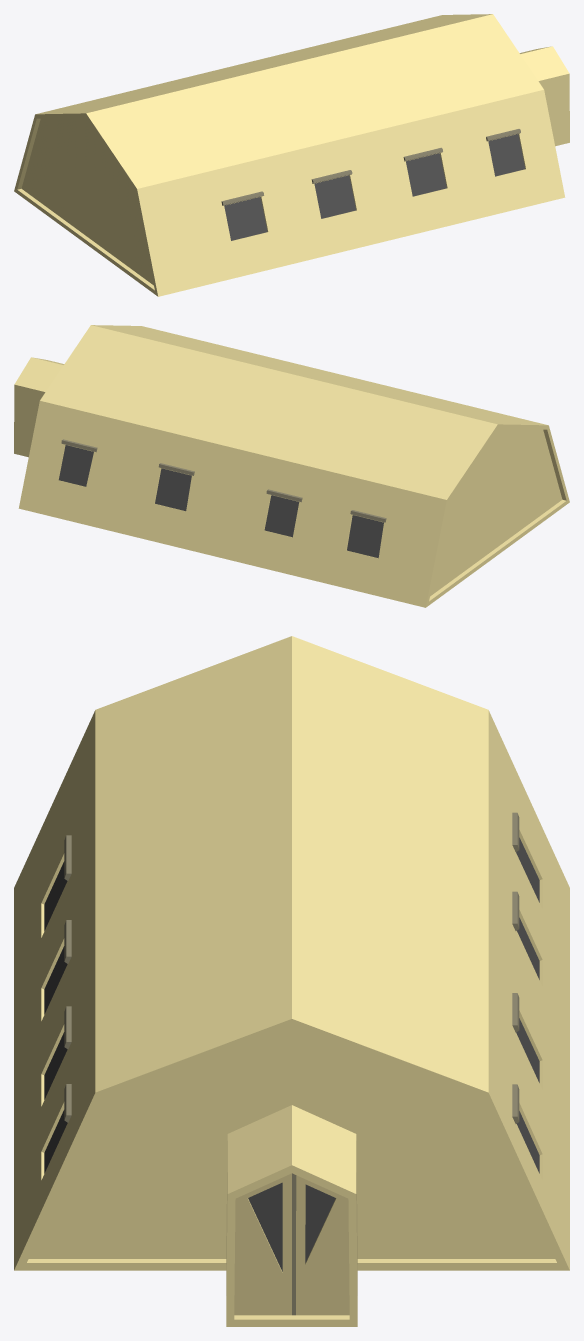
File: tent1.fbx
3 views of the same model, one above another, from view 1: azimuth 30°, elevation 25°; view 2: azimuth 150°, elevation 25°; view 3: azimuth 270°, elevation 25° (orthographic). The views are drawn at different scales.
Visible parts, largest first — view 1: Cylinder_4; view 2: Cylinder_4; view 3: Cylinder_4.
Boxes of the visible parts, x1=… form: Cylinder_4: x1=14, y1=14, x2=569, y2=296; Cylinder_4: x1=14, y1=325, x2=569, y2=607; Cylinder_4: x1=14, y1=636, x2=569, y2=1326.
Size of the model in its own units: 1586 by 424 by 849.
